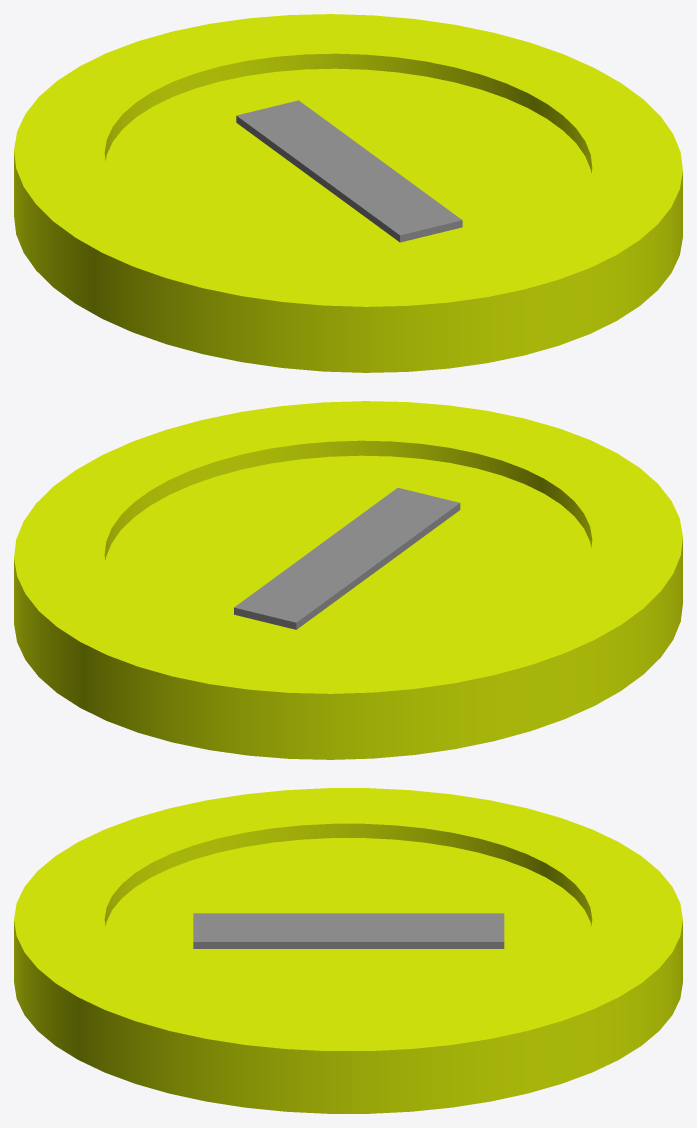
File: Mario_Coin.FBX
3 renders of one model, top to bottom at view 1: azimuth 30°, elevation 25°; view 2: azimuth 150°, elevation 25°; view 3: azimuth 270°, elevation 25°, orthographic. The views are drawn at different scales.
Parts seen in each view (by area): view 1: Tube001, Cylinder001, Box001; view 2: Tube001, Cylinder001, Box001; view 3: Tube001, Cylinder001, Box001.
Part boxes in pixels (bbox=[...]): Tube001: bbox=[14, 14, 682, 372]; Cylinder001: bbox=[105, 68, 591, 267]; Box001: bbox=[236, 100, 462, 242]; Tube001: bbox=[14, 401, 682, 759]; Cylinder001: bbox=[105, 455, 591, 654]; Box001: bbox=[234, 487, 460, 629]; Tube001: bbox=[14, 788, 682, 1113]; Cylinder001: bbox=[105, 838, 591, 1015]; Box001: bbox=[193, 913, 504, 948].
Size of the model in its own units: 29.79 by 3.5 by 32.03.
